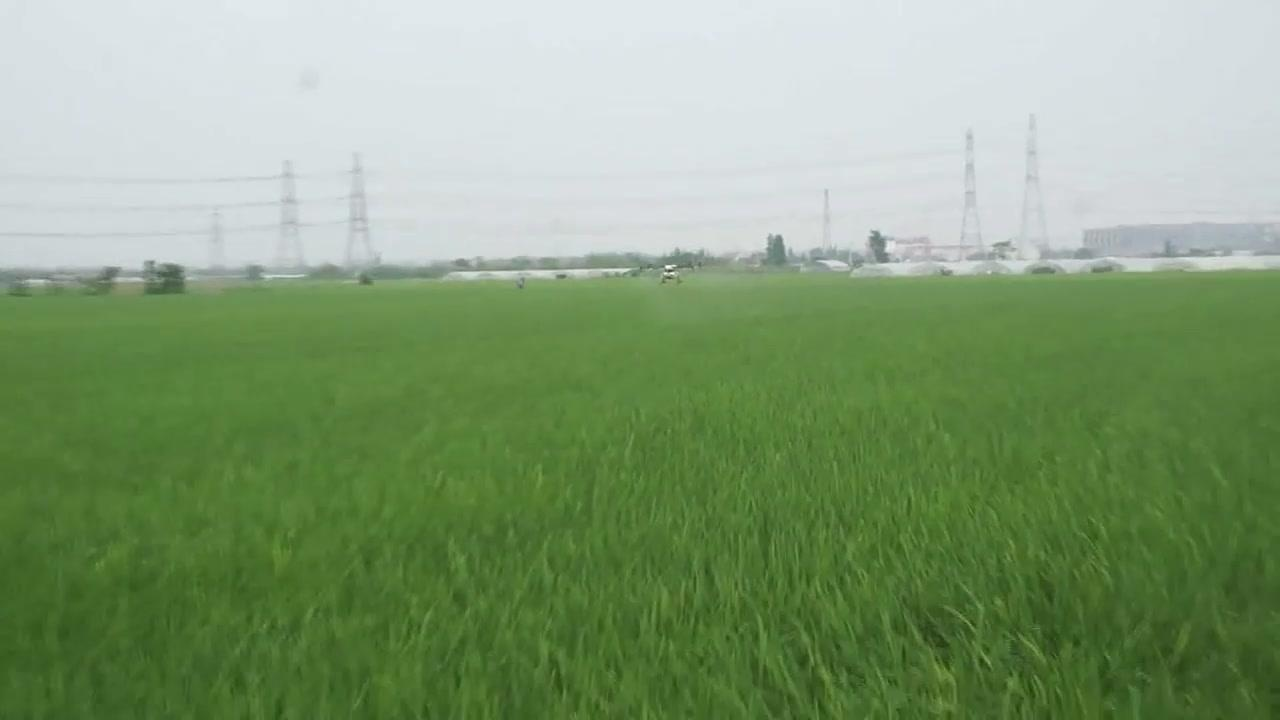UAV: (640, 262, 705, 286)
